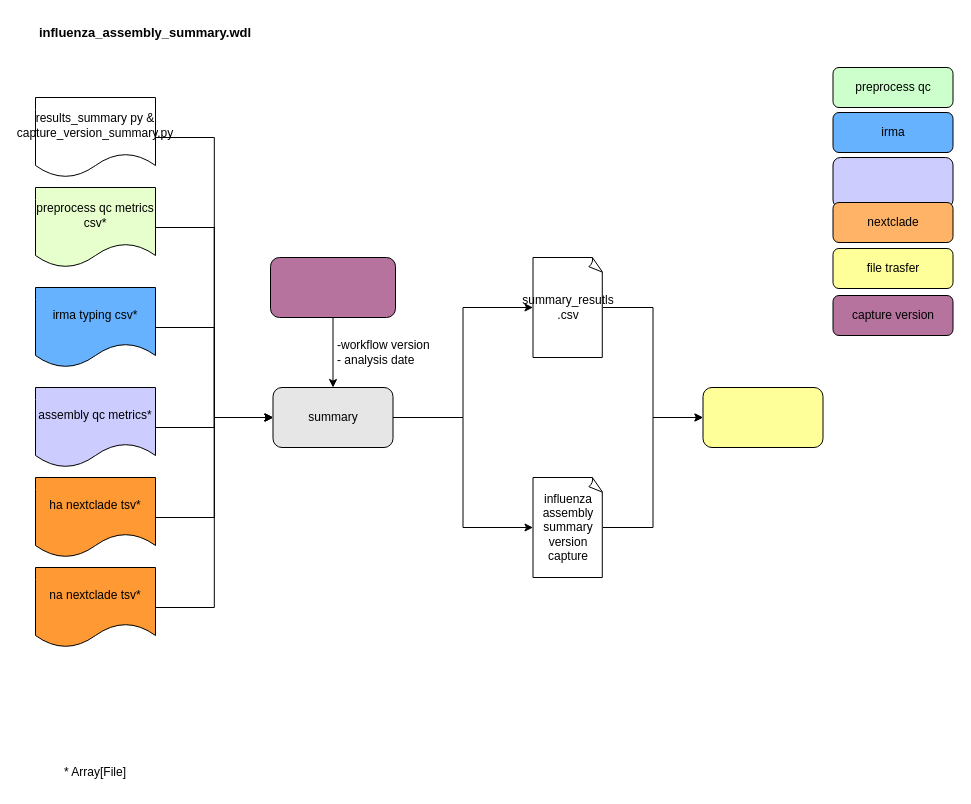
The diagram is 971 pixels wide and 804 high, and some of its shapes have lost their labels. The shapes that lost their labels are listed below. From the top down, each one's box as (x1, y1, x2, y2) in pixels, then its label:
(832, 156, 953, 208): post assembly processing
(270, 256, 396, 318): capture workflow version
(702, 386, 823, 448): transfer
